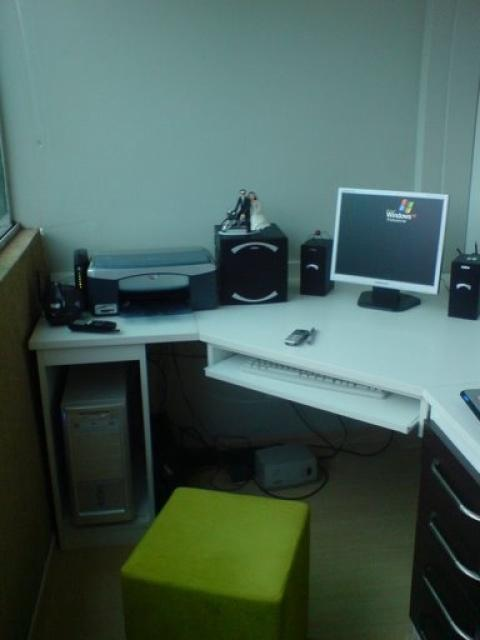AIO PC-Monitor-TV: (329, 186, 449, 312)
Printer: (85, 244, 217, 316)
